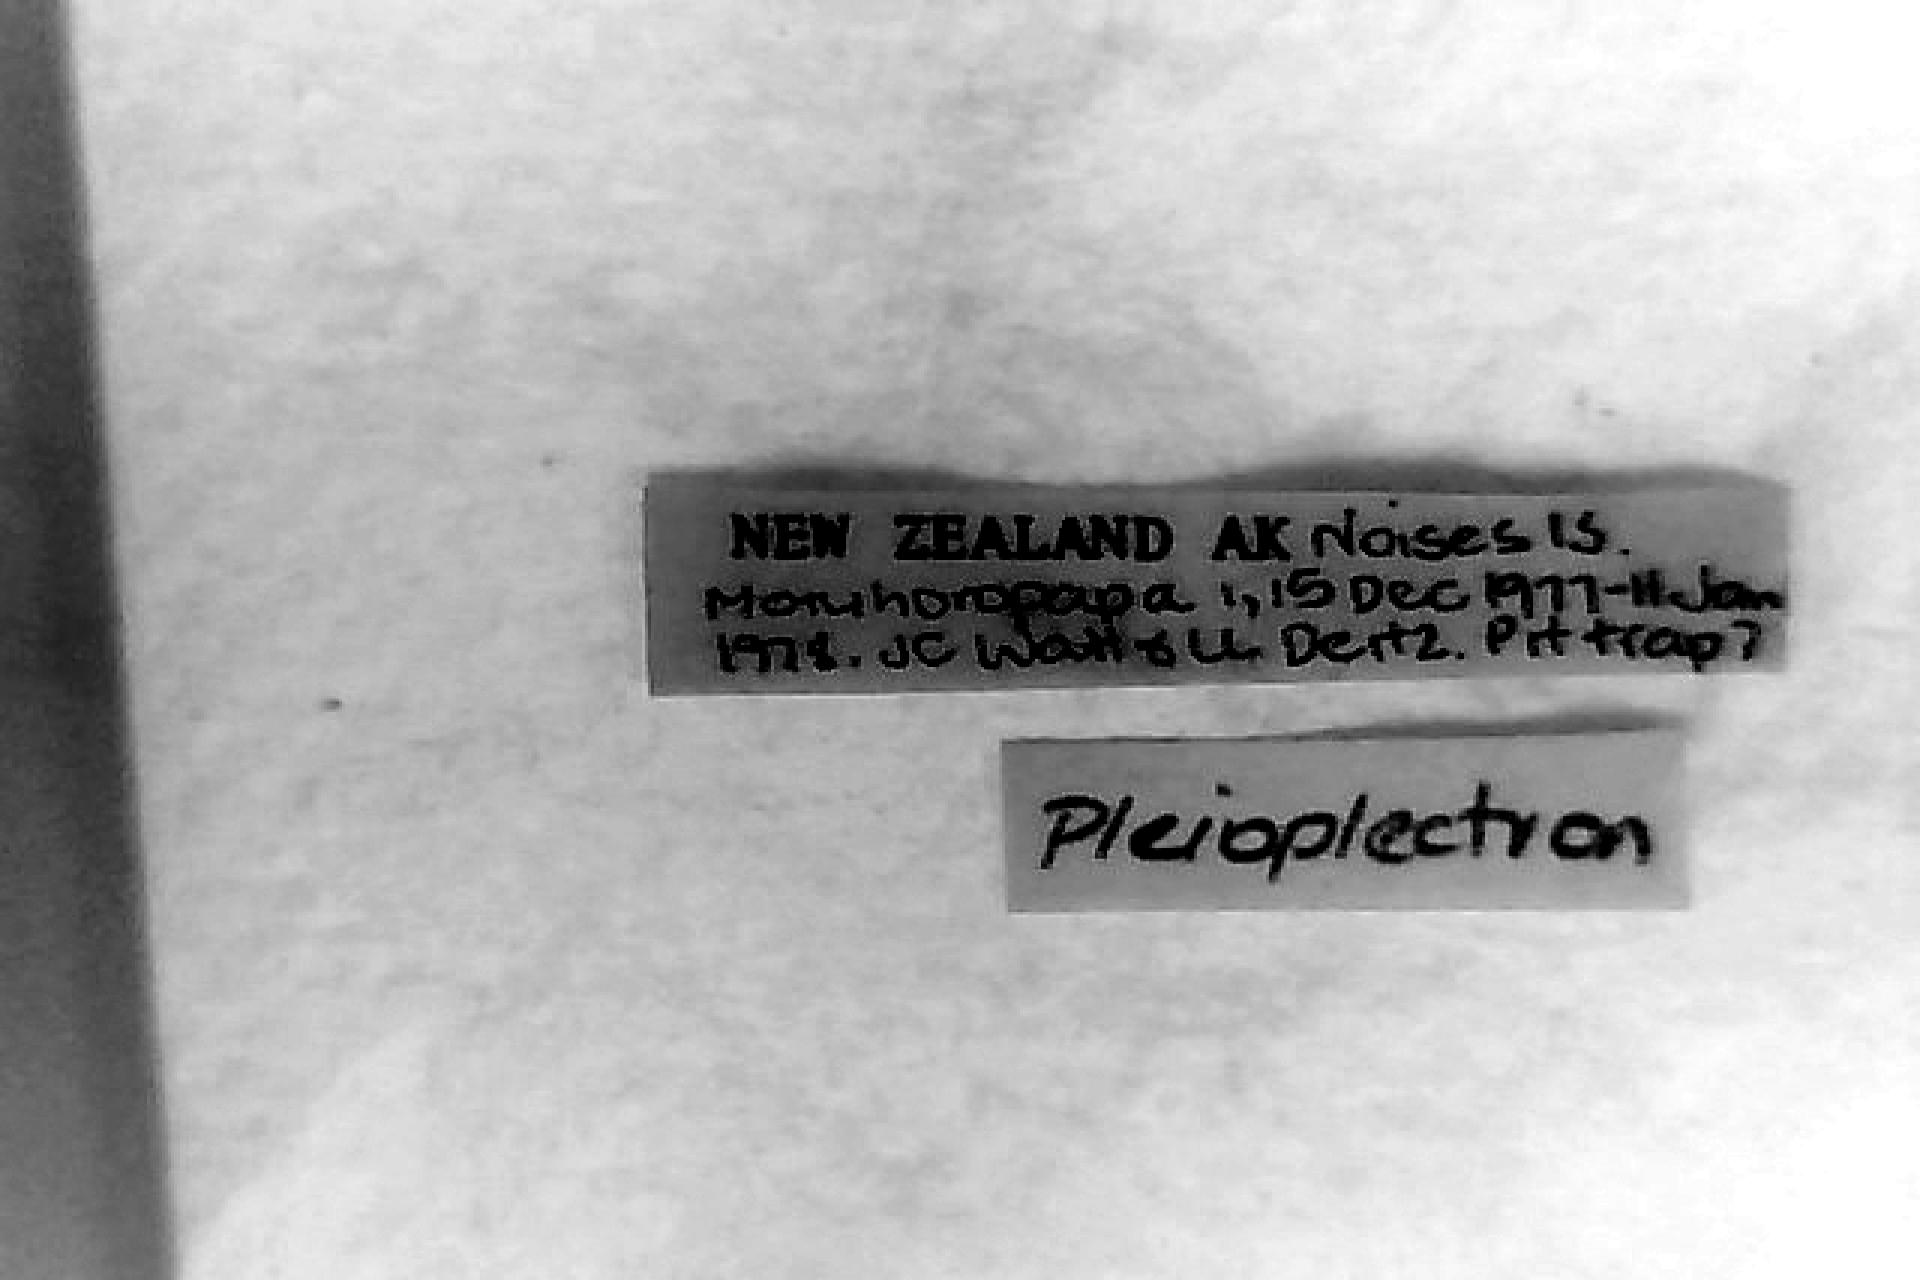hand_label: (1007, 730, 1687, 911)
mixed_label: (649, 480, 1789, 693)
